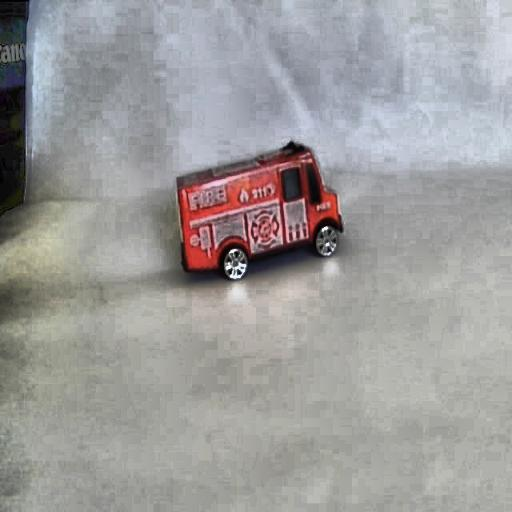fire_truck: (173, 138, 345, 282)
